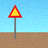sign: (8, 4, 22, 39)
